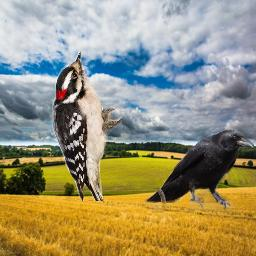Crow: (141, 128, 254, 213)
Woodpecker: (52, 51, 122, 201)
